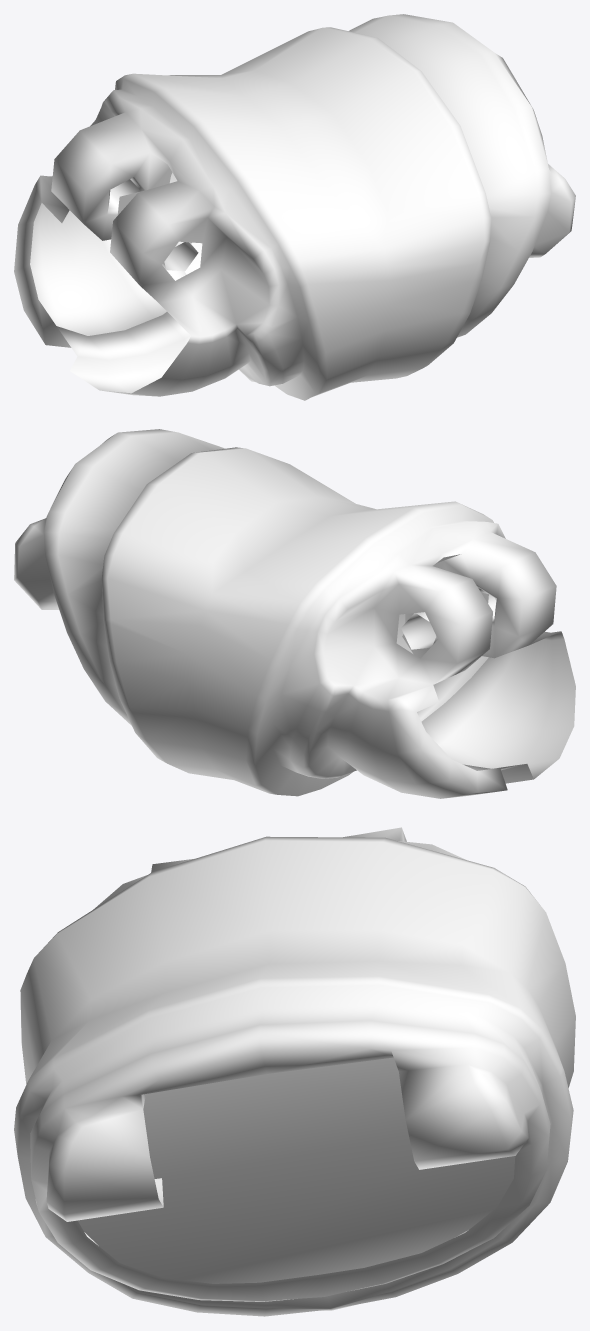
The model's file is LFinger12.dae.
3 renders of one model, top to bottom at view 1: azimuth 30°, elevation 25°; view 2: azimuth 150°, elevation 25°; view 3: azimuth 270°, elevation 25°, orthographic. The views are drawn at different scales.
Visible parts, largest first — view 1: LFinger12; view 2: LFinger12; view 3: LFinger12.
Part boxes in pixels (x1,y1,x2,y2): LFinger12: (14,14,575,400); LFinger12: (14,429,575,798); LFinger12: (14,827,575,1316).
Size of the model in its own units: 0.1938 by 0.16 by 0.1192.
1 material, 1 textured.
